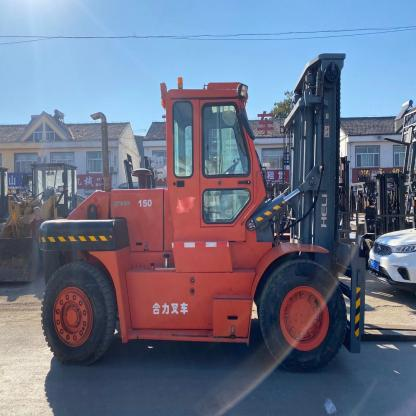forklift: (38, 52, 366, 374)
